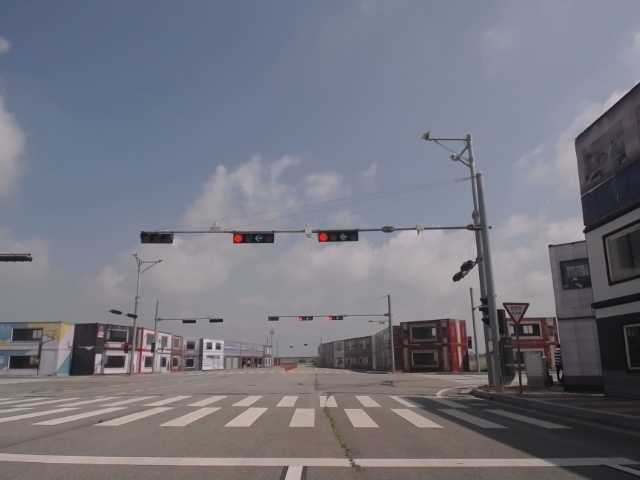left_green_4: (233, 231, 275, 244), (318, 230, 359, 242)
